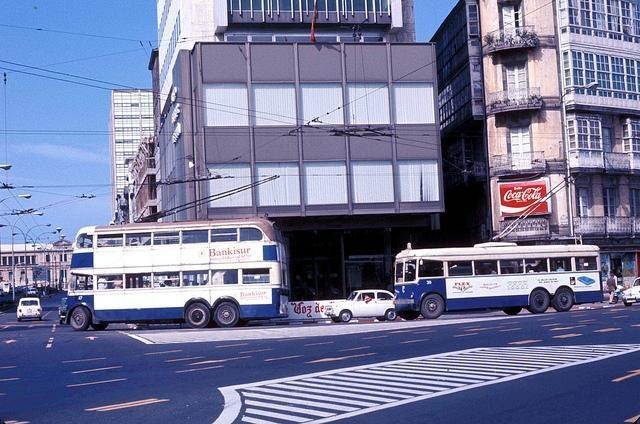bus: (66, 212, 294, 330), (392, 242, 610, 325)
car: (325, 290, 397, 322), (16, 297, 42, 322), (622, 276, 640, 306)
